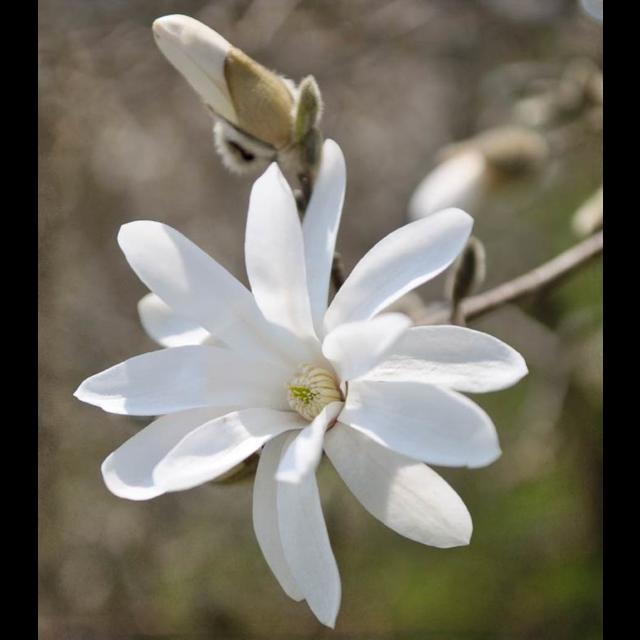Flower: (74, 136, 524, 630)
